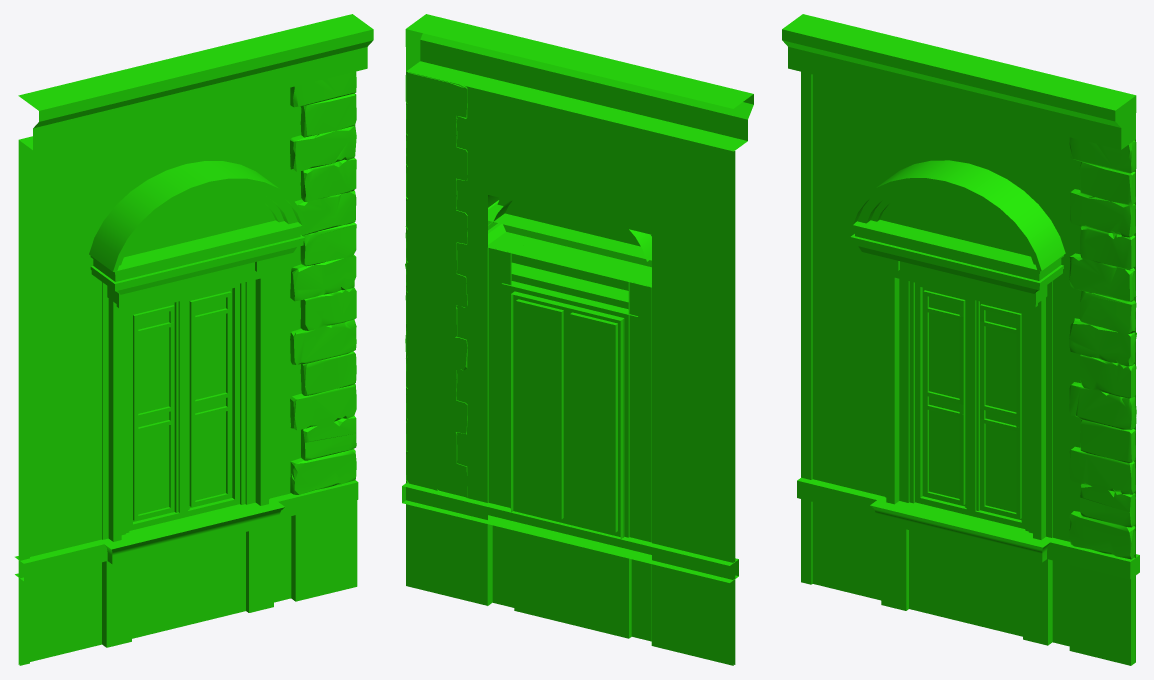
The model's file is SM_JShouse_2F_R.fbx.
3 views of the same model, side by side, from view 1: azimuth 30°, elevation 25°; view 2: azimuth 150°, elevation 25°; view 3: azimuth 330°, elevation 25° (orthographic). The views are drawn at different scales.
Visible parts, largest first — view 1: SM_JShouse2F_R; view 2: SM_JShouse2F_R; view 3: SM_JShouse2F_R.
Boxes of the visible parts, x1=… form: SM_JShouse2F_R: x1=15, y1=14, x2=373, y2=665; SM_JShouse2F_R: x1=402, y1=14, x2=753, y2=665; SM_JShouse2F_R: x1=782, y1=14, x2=1139, y2=665.
Size of the model in its own units: 320 by 520 by 47.02.
